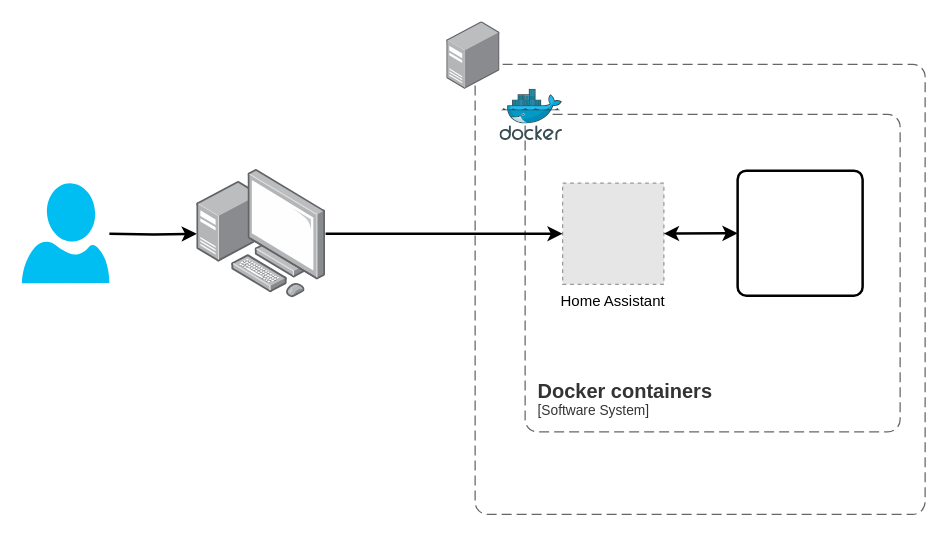
This 948x536 diagram has some shape labels left out. Grey dashed boxes stand in for pictures. The shapes that lost their labels are listed below. From the top down, each one's box as (x1, y1, x2, y2) in pixels, then its label:
(736, 169, 863, 296): AA Application
(474, 63, 925, 514): Server / RPI [Software System]
